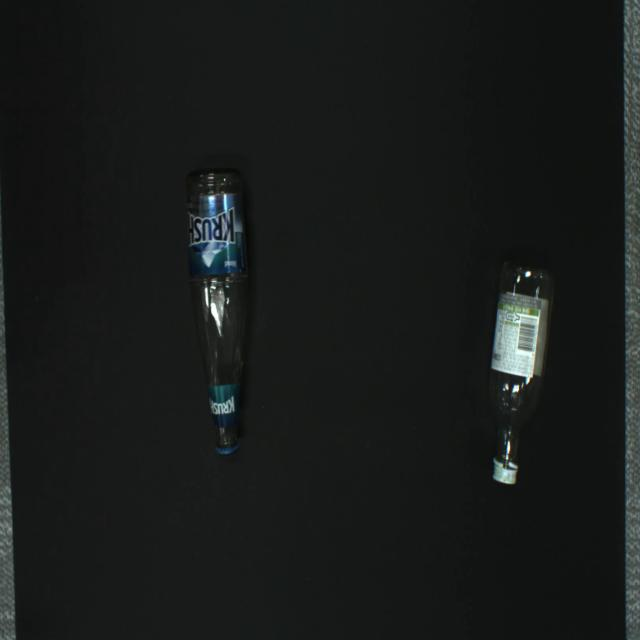beer-bottle: (185, 169, 249, 455)
soju-bottle: (490, 262, 555, 484)
